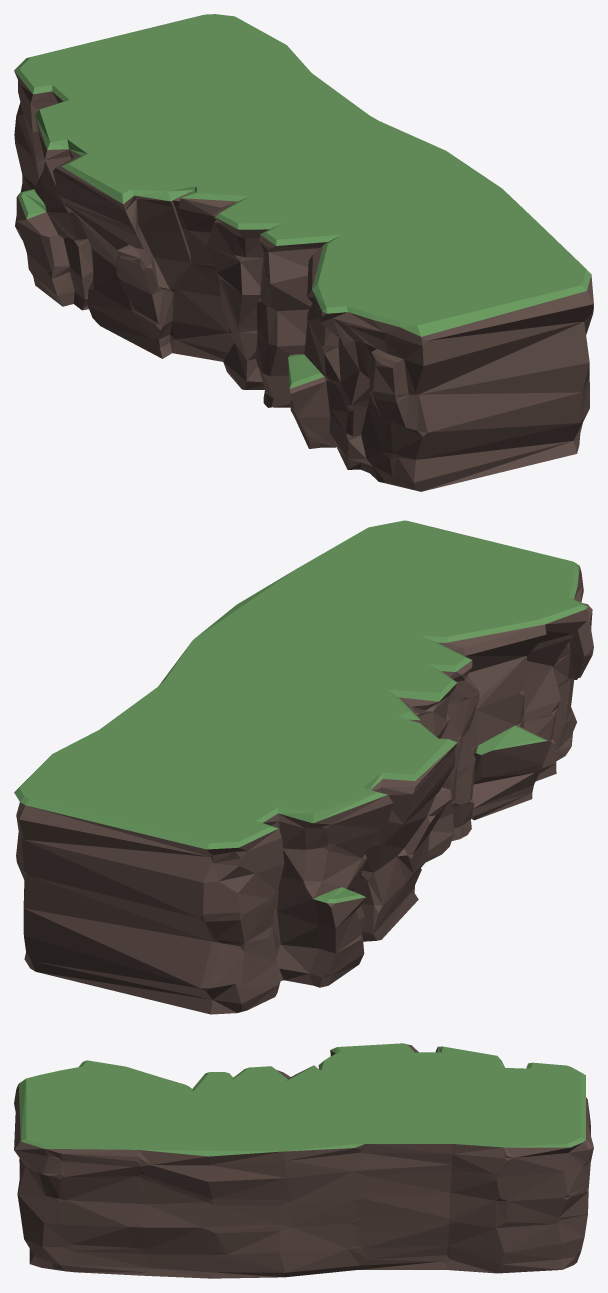
File: Cliff 9.fbx
3 renders of one model, top to bottom at view 1: azimuth 30°, elevation 25°; view 2: azimuth 150°, elevation 25°; view 3: azimuth 270°, elevation 25°, orthographic. The views are drawn at different scales.
Parts seen in each view (by area): view 1: Cliff 15; view 2: Cliff 15; view 3: Cliff 15.
Boxes of the visible parts, x1=… form: Cliff 15: x1=14, y1=14, x2=593, y2=491; Cliff 15: x1=14, y1=520, x2=593, y2=1014; Cliff 15: x1=14, y1=1043, x2=593, y2=1278.
Bounding box in the file's own units: 1.97 × 1.02 × 4.24.
